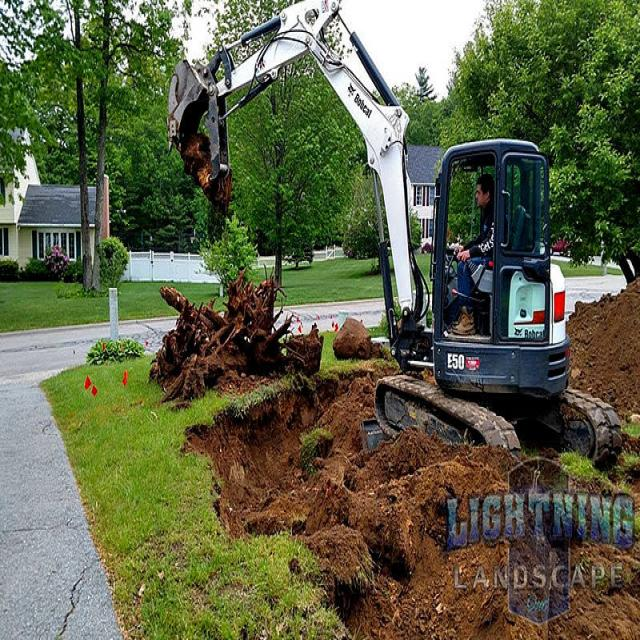excavator: (167, 0, 621, 472)
plant: (0, 0, 183, 294), (189, 0, 359, 289)
